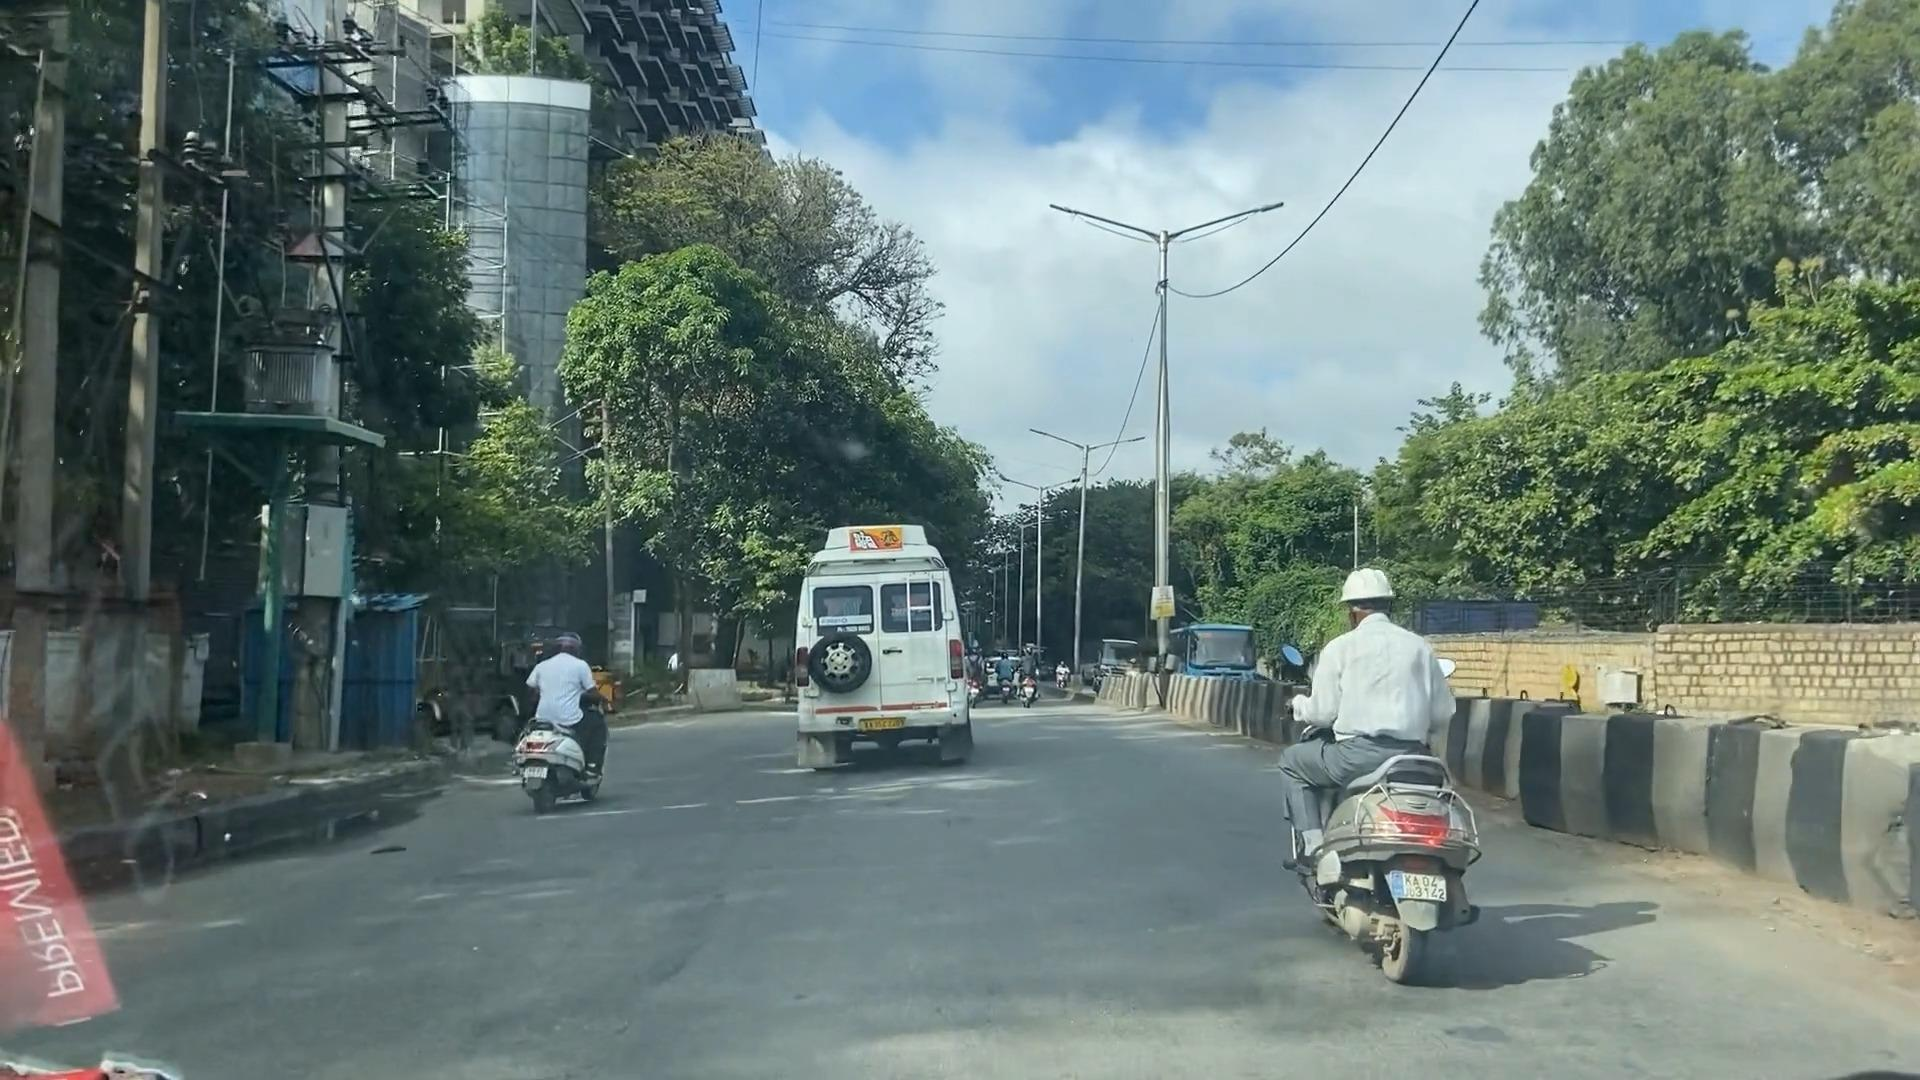HMV: (786, 508, 977, 766)
LMV: (1266, 550, 1472, 964), (516, 628, 636, 819)
RoadDamages: (476, 901, 695, 1080)
